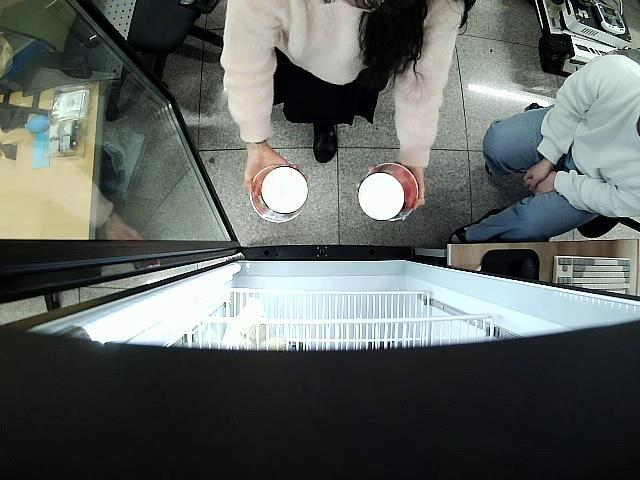01_ShinRamen_L: (358, 162, 419, 223), (250, 164, 310, 224)
